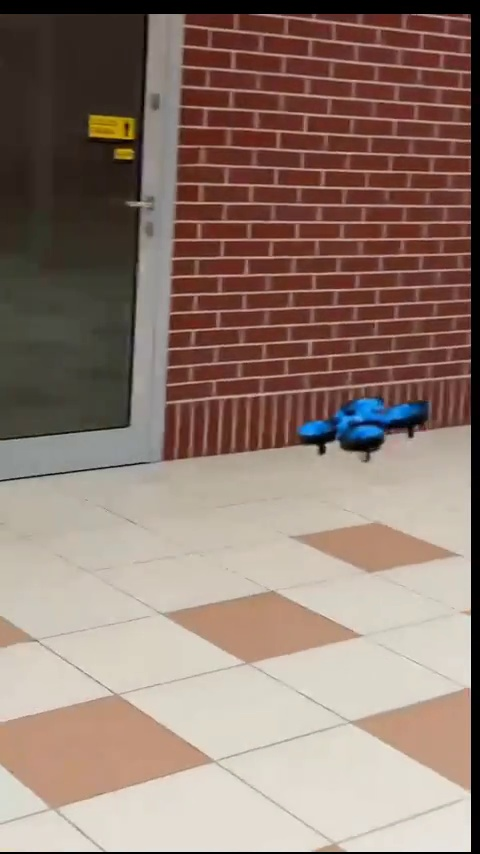drone: (304, 397, 425, 458)
